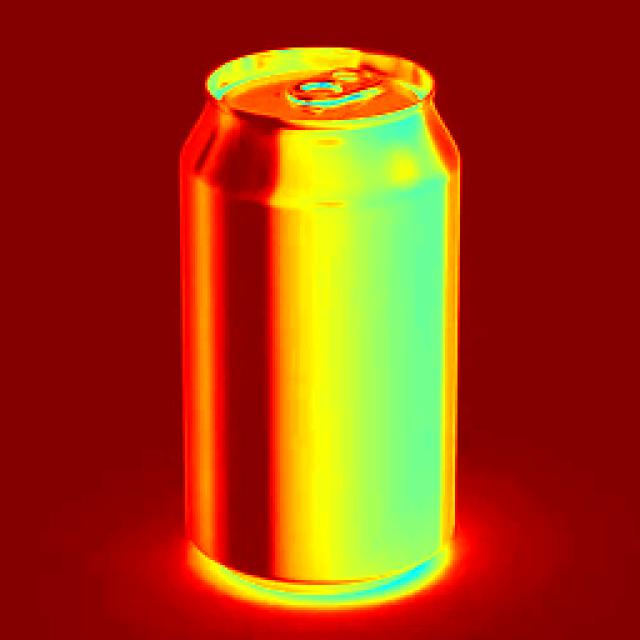Aluminium Food Cans: (64, 12, 593, 626)
